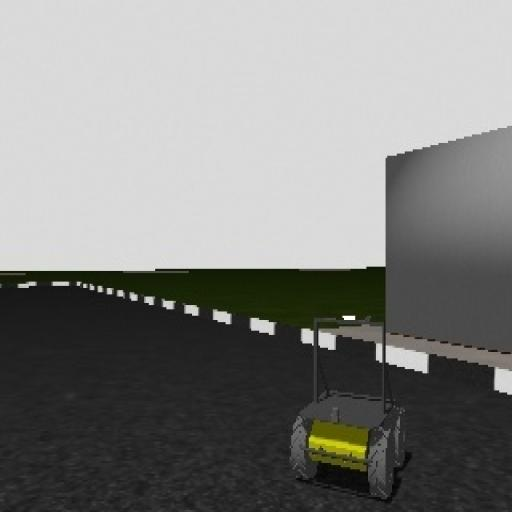huskya200: (270, 309, 408, 499)
